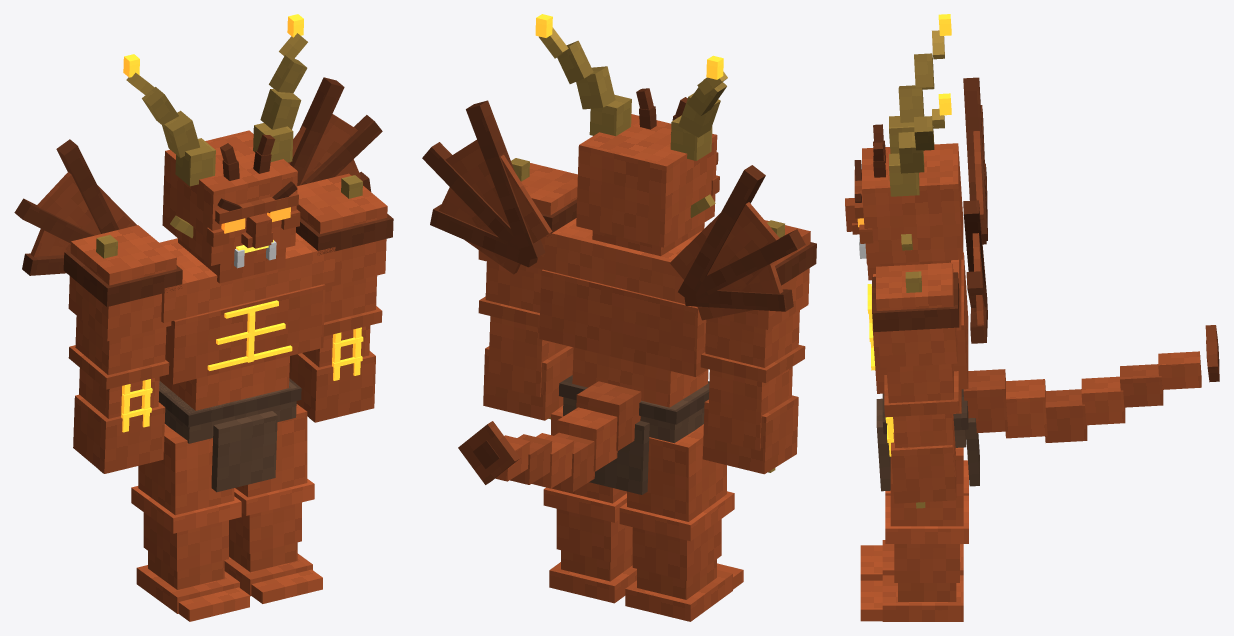
File: demon_base_v2_evo2.glb
The picture shows the model from 3 angles, left to right: view 1: azimuth 30°, elevation 25°; view 2: azimuth 150°, elevation 25°; view 3: azimuth 270°, elevation 25°; orthographic projection. The views are drawn at different scales.
Parts seen in each view (by area): view 1: Torso, Head, ArmR, ArmL, LegR, LegL; view 2: Torso, Head, ArmR, LegR, ArmL, LegL; view 3: Torso, ArmL, Head, LegL, LegR.
Part boxes in pixels (x1,y1,x2,y2): Torso: [14, 77, 382, 492]; Head: [123, 14, 307, 283]; ArmR: [63, 225, 182, 473]; ArmL: [289, 173, 393, 422]; LegR: [131, 424, 249, 621]; LegL: [224, 404, 322, 603]; Torso: [422, 100, 805, 494]; Head: [535, 14, 727, 256]; ArmR: [700, 220, 816, 474]; LegR: [619, 424, 743, 621]; ArmL: [478, 158, 577, 420]; LegL: [543, 405, 636, 603]; Torso: [867, 77, 1219, 491]; ArmL: [872, 262, 959, 508]; Head: [845, 14, 963, 280]; LegL: [860, 447, 968, 621]; LegR: [860, 460, 968, 580].
Size of the model in its own units: 1.58 by 2.25 by 1.44.
30 materials, 30 textured.
